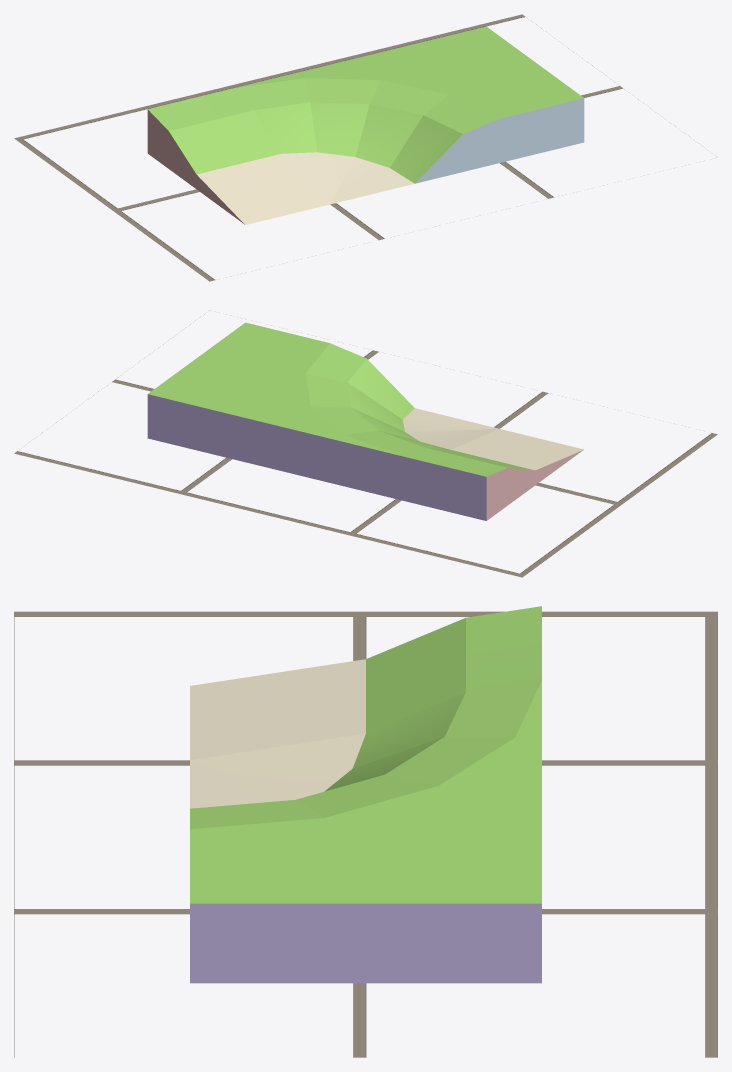
The model's file is Tiered_Walkway_Step_Top_Path_Transition_1x2.glb.
3 views of the same model, one above another, from view 1: azimuth 30°, elevation 25°; view 2: azimuth 150°, elevation 25°; view 3: azimuth 270°, elevation 25° (orthographic). The views are drawn at different scales.
Visible parts, largest first — view 1: object1.007, Floor; view 2: object1.007, Floor; view 3: object1.007, Floor.
Boxes of the visible parts, box(x1,y1,x2,y2) form: object1.007: box(147, 26, 584, 224); Floor: box(14, 14, 716, 281); object1.007: box(147, 322, 583, 520); Floor: box(14, 310, 717, 577); object1.007: box(190, 606, 541, 983); Floor: box(14, 611, 717, 1057).
Bounding box in the file's own units: 300 × 25 × 200.
7 materials, 1 textured.
